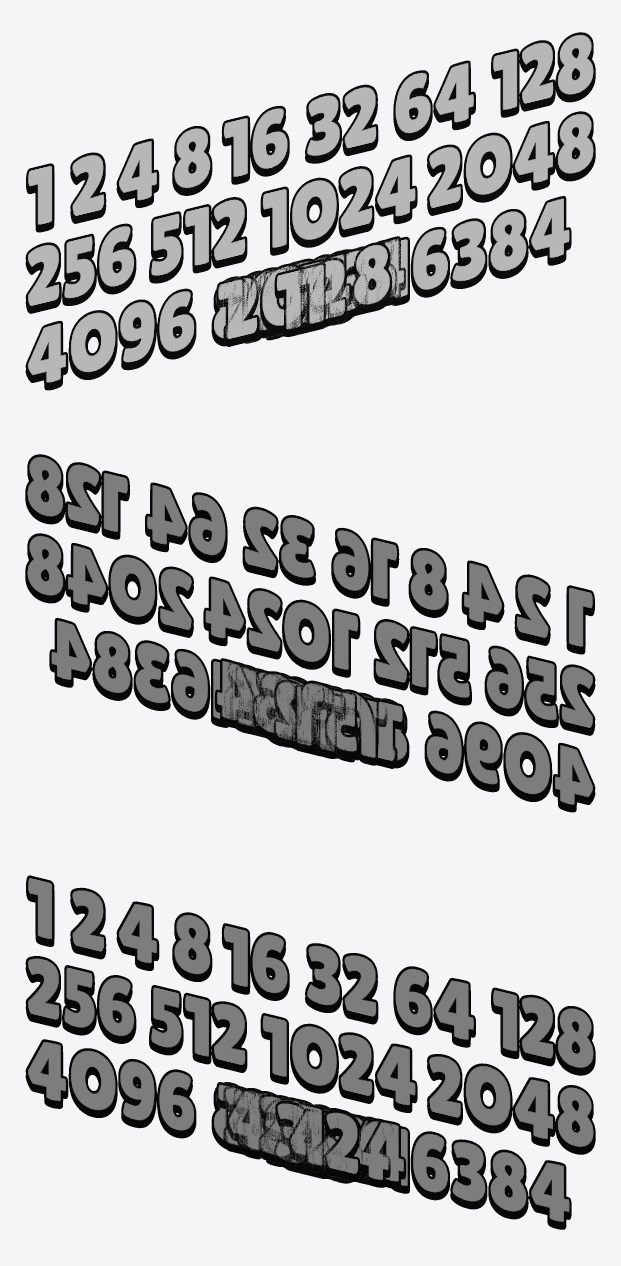
File: Numbers_2048_mesh.fbx
3 renders of one model, top to bottom at view 1: azimuth 30°, elevation 25°; view 2: azimuth 150°, elevation 25°; view 3: azimuth 330°, elevation 25°, orthographic.
Parts seen in each view (by area): view 1: All_numbers, Number_2048, Number_16384, Number_256, Number_16, Number_32, Number_1; view 2: All_numbers, Number_16384, Number_1024, Number_512, Number_256, Number_32, Number_2048, Number_16, Number_1, Number_4096; view 3: All_numbers, Number_512, Number_1024, Number_16384, Number_4096, Number_32, Number_256, Number_4, Number_8192, Number_2048.
Boxes of the visible parts, box(x1,y1,x2,y2) form: All_numbers: box(25, 32, 595, 390); Number_2048: box(223, 242, 391, 346); Number_16384: box(216, 236, 406, 343); Number_256: box(258, 248, 367, 338); Number_16: box(274, 268, 327, 336); Number_32: box(277, 257, 347, 336); Number_1: box(298, 262, 325, 331); All_numbers: box(25, 454, 595, 812); Number_16384: box(214, 658, 404, 753); Number_1024: box(230, 664, 387, 765); Number_512: box(262, 673, 358, 759); Number_256: box(252, 670, 359, 760); Number_32: box(273, 679, 342, 758); Number_2048: box(229, 664, 397, 768); Number_16: box(293, 692, 346, 758); Number_1: box(295, 684, 321, 753); Number_4096: box(224, 662, 330, 732); All_numbers: box(25, 875, 595, 1229); Number_512: box(262, 1096, 360, 1181); Number_1024: box(233, 1087, 390, 1187); Number_16384: box(216, 1082, 406, 1189); Number_4096: box(226, 1088, 393, 1187); Number_32: box(274, 1101, 345, 1181); Number_256: box(258, 1094, 365, 1181); Number_4: box(288, 1108, 324, 1177); Number_8192: box(235, 1088, 370, 1185); Number_2048: box(223, 1085, 375, 1184).
Size of the model in its own units: 7.91 by 3.21 by 0.
1 material, 1 textured.
